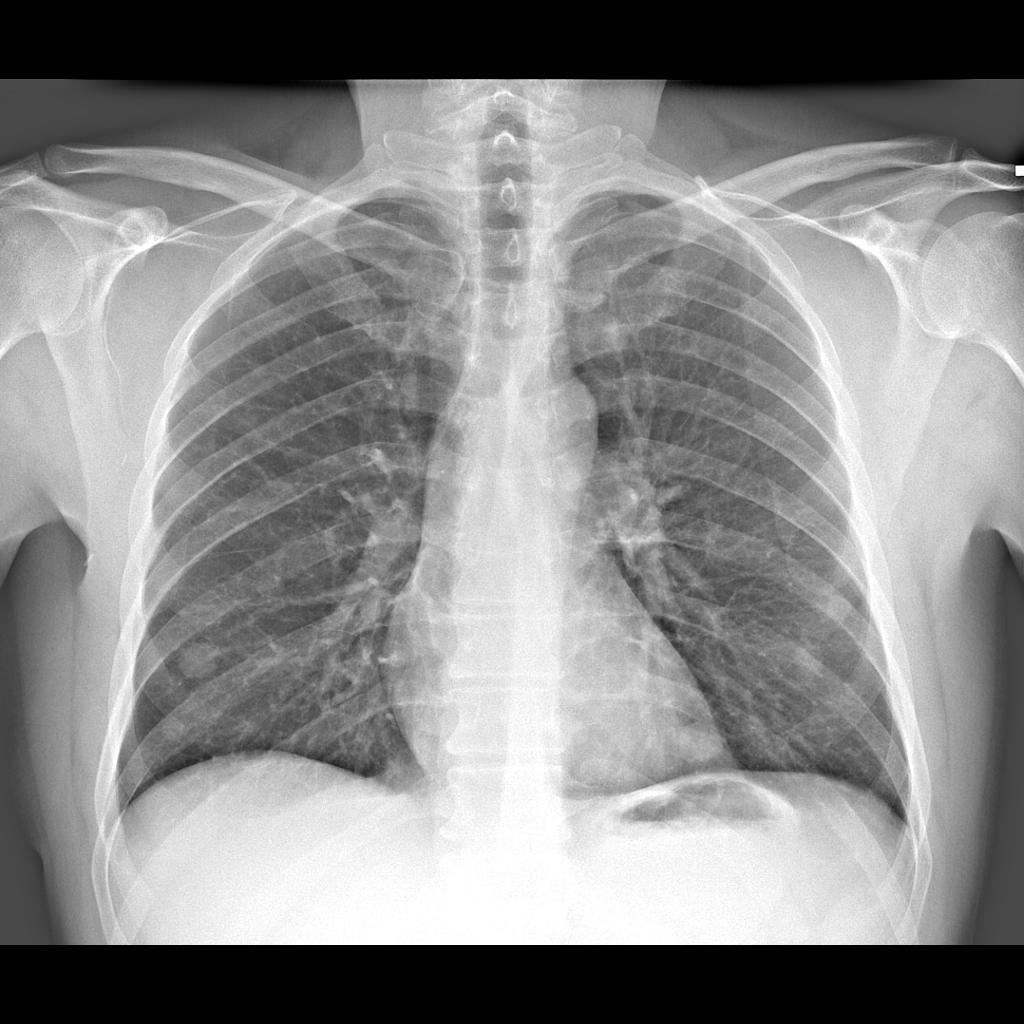Nodule: (176, 638, 224, 689), (819, 586, 863, 629), (157, 714, 193, 752)
